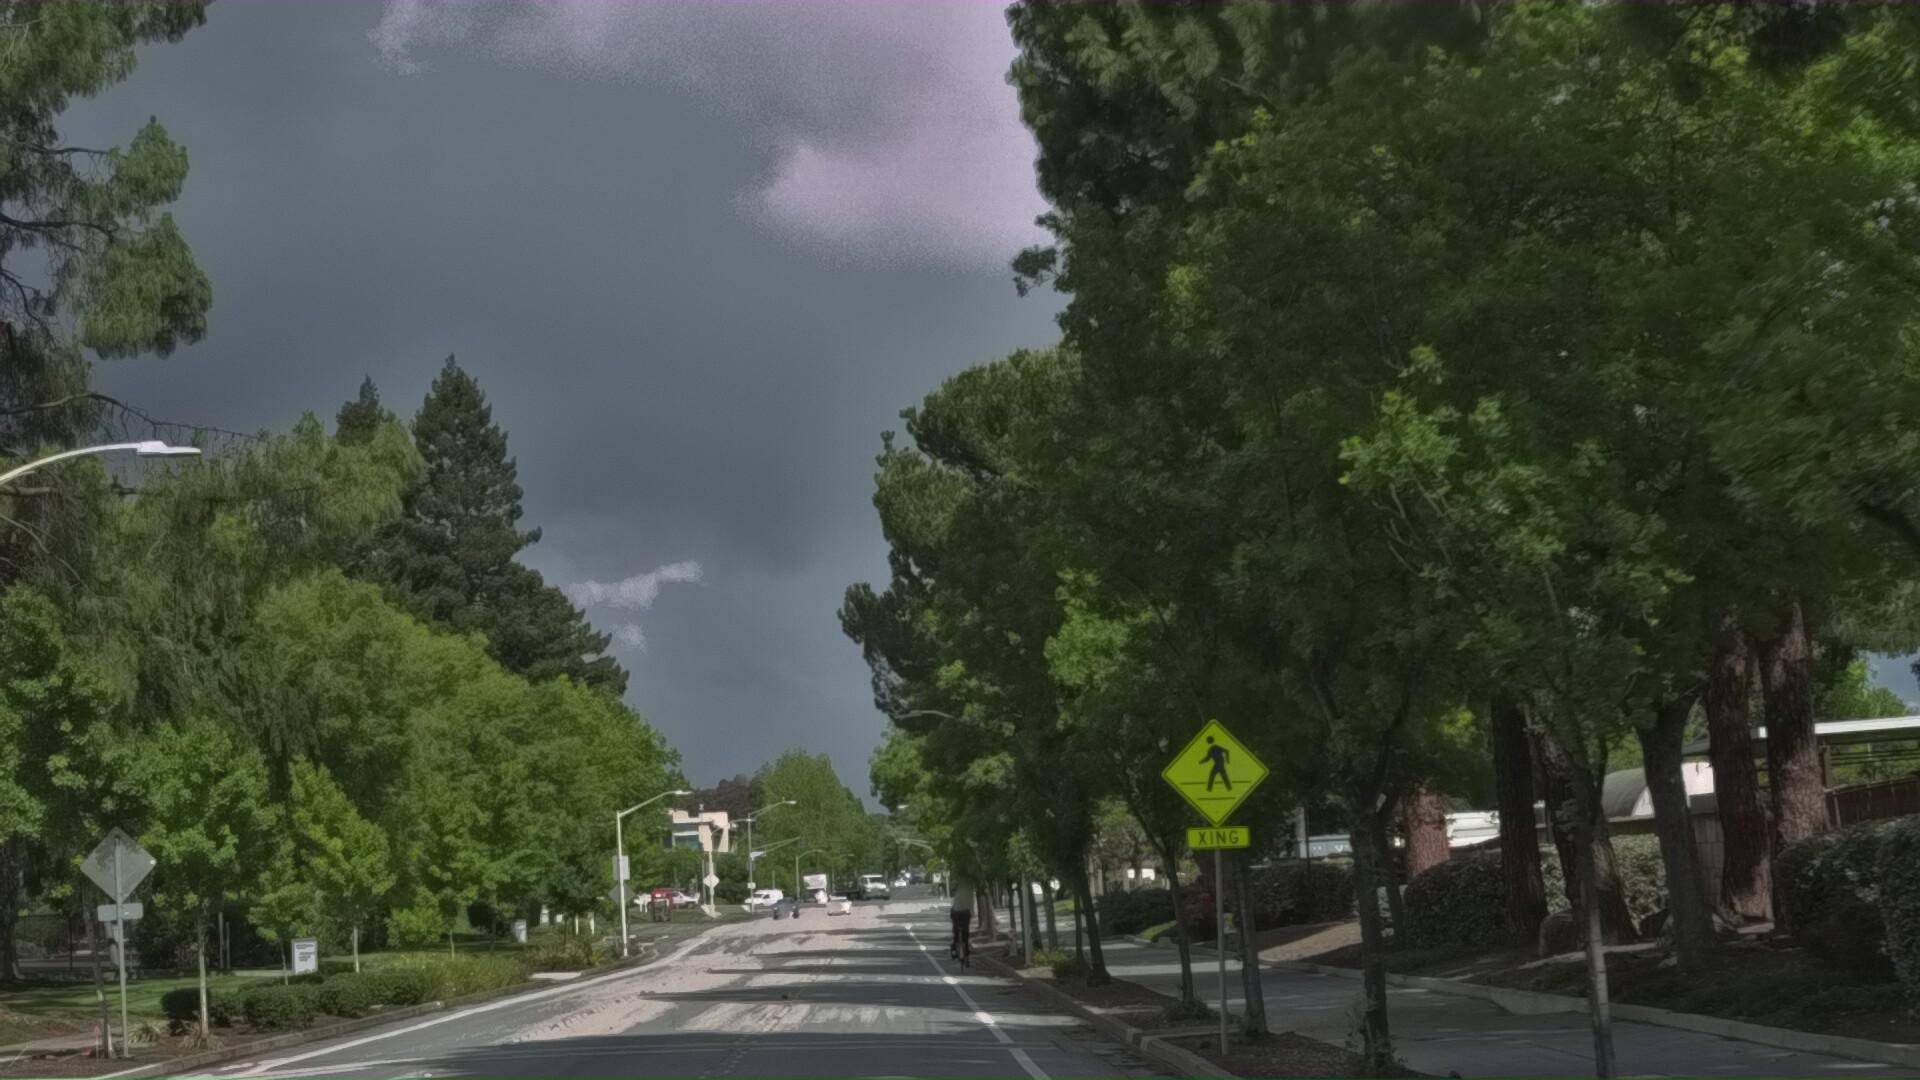bicycle: (942, 989, 986, 1075)
